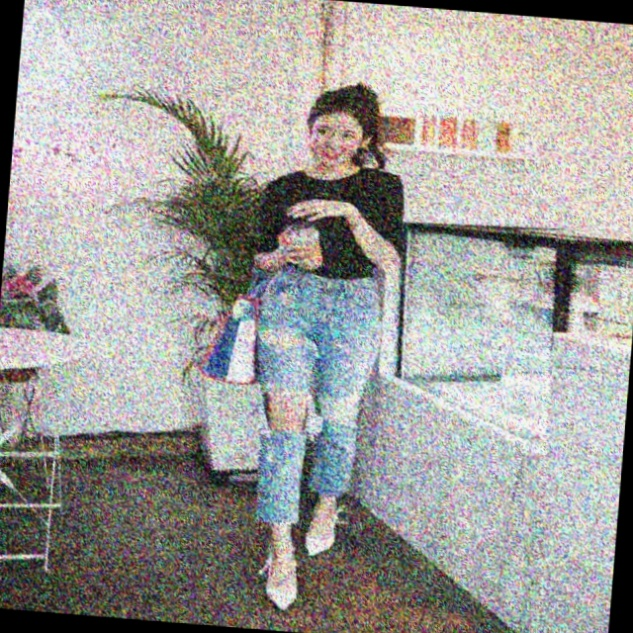ripped_pants: (243, 263, 391, 536)
